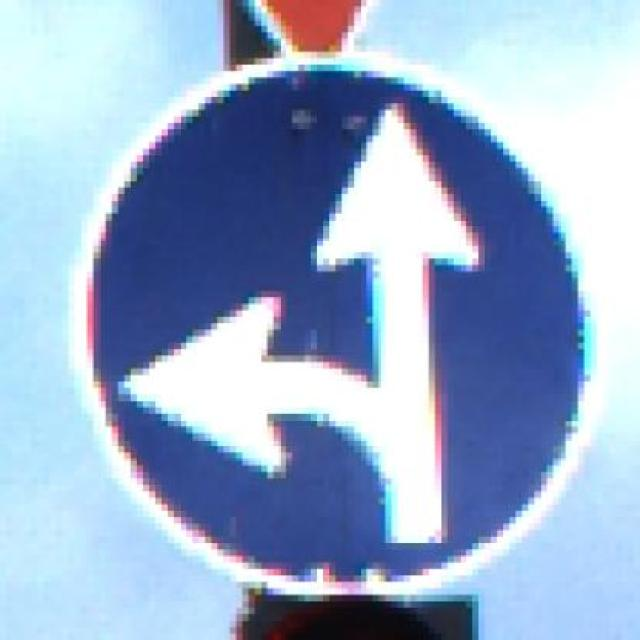Go straight or turn left: (43, 51, 628, 608)
